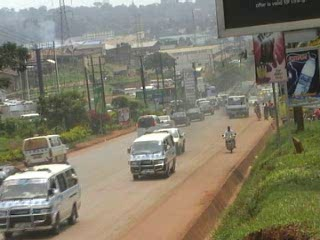Car: (134, 112, 161, 141), (0, 162, 25, 178), (169, 110, 191, 128), (157, 111, 176, 129), (188, 104, 204, 122)
Motorcycle: (219, 125, 239, 155)
